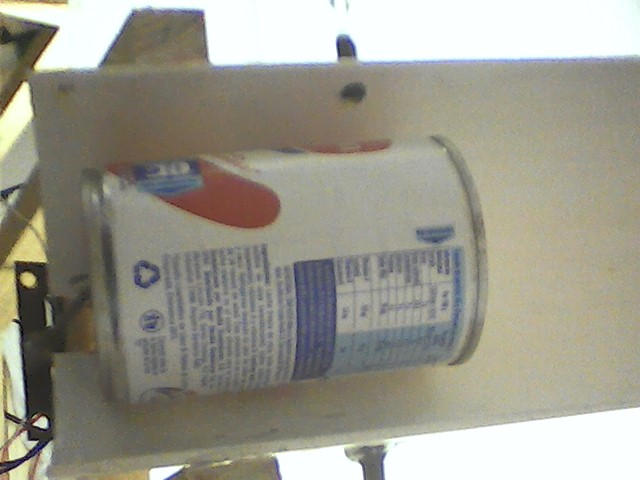lata: (67, 134, 494, 420)
